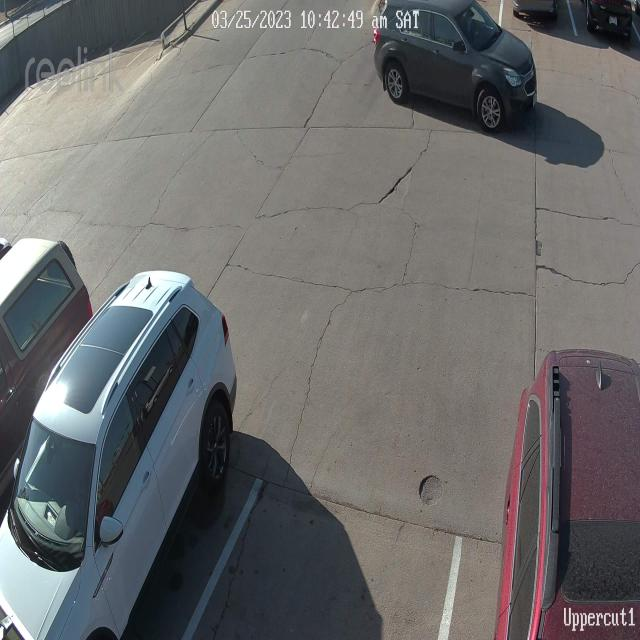Car: (375, 0, 539, 131)
Empty-slot: (186, 416, 476, 640), (498, 0, 516, 23)
Slot-Occupied: (6, 271, 232, 574), (502, 356, 640, 640), (5, 231, 99, 439), (586, 0, 628, 34), (524, 6, 562, 24)
